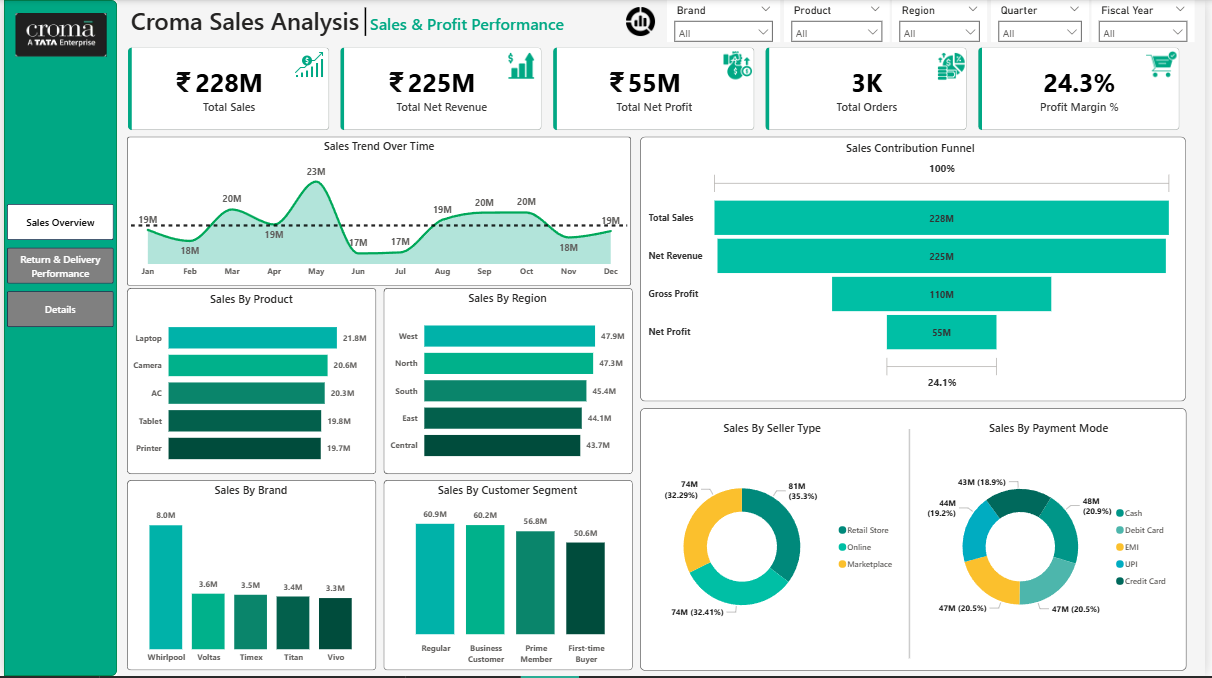

Layout of this report page (visuals, bound fields, positions):
{"tool":"powerbi","page":{"name":"Sales Overview","canvas":[1600,900],"ordinal":0},"visuals":[{"type":"shape","box":[0,0,150.6,900],"z":0},{"type":"textbox","box":[164,0,604.5,56.2],"z":1000},{"type":"shape","box":[467.8,10,27.8,37.8],"z":2000},{"type":"cardVisual","fields":{"Data":["Sheet1.Total Sales","Sheet1.Total Net Revenue","Sheet1.Total Net Profit","Sheet1.Total Orders","Sheet1.Profit Margin %"]},"box":[159.7,58.4,1414.6,120.2],"z":3000},{"type":"shape","box":[164.4,181.1,671.1,198.9],"z":3000},{"type":"image","box":[663.3,64.4,51.1,46.8],"z":4000},{"type":"textbox","box":[223.7,81.9,35.9,69.9],"z":4000},{"type":"areaChart","title":"Sales Trend Over Time","fields":{"Y":["Sheet1.Total Sales"],"Category":["Sheet1.Month_short"]},"box":[164.4,183.3,671.1,194.4],"z":4000},{"type":"image","box":[952.7,60.8,48.3,54],"z":5000},{"type":"textbox","box":[800.8,81.9,34,65.9],"z":5000},{"type":"shape","box":[163.6,384.1,331.8,247.7],"z":5000},{"type":"image","box":[1234.7,63,53.9,48.4],"z":6000},{"type":"textbox","box":[507.3,81.9,32,65.9],"z":6000},{"type":"barChart","title":"Sales By Product","fields":{"Category":["Sheet1.Product"],"Y":["Sheet1.Total Sales"]},"box":[165.9,387.5,327.3,244.3],"z":6000},{"type":"image","box":[376.5,60.8,57.3,52.9],"z":7000},{"type":"shape","box":[504.5,384.1,331.8,247.7],"z":7000},{"type":"image","box":[1512.2,60,57.8,51.1],"z":8000},{"type":"shape","box":[504.5,639.8,331.8,253.4],"z":8000},{"type":"shape","box":[163.6,639.8,331.8,253.4],"z":9000},{"type":"columnChart","title":" Sales By Brand","fields":{"Category":["Sheet1.Brand"],"Y":["Sheet1.Total Sales"]},"box":[165.9,642,326,251],"z":10000},{"type":"clusteredBarChart","title":"Sales By Region","fields":{"Category":["Sheet1.Region"],"Y":["Sheet1.Total Sales"]},"box":[506.8,386.4,326.1,242],"z":11000},{"type":"columnChart","title":"Sales By Customer Segment","fields":{"Category":["Sheet1.Customer Segment"],"Y":["Sheet1.Total Sales"]},"box":[506.8,642,326.1,250],"z":12000},{"type":"shape","box":[847.2,180.9,727,352.8],"z":13000},{"type":"shape","box":[846.7,543.3,727.8,350],"z":14000},{"type":"donutChart","title":"Sales By Seller Type","fields":{"Category":["Sheet1.Seller Type"],"Y":["Sheet1.Total Sales"]},"box":[848.9,560,347.8,316.7],"z":15000},{"type":"donutChart","title":"Sales By Payment Mode","fields":{"Category":["Sheet1.Payment Mode"],"Y":["Sheet1.Total Sales"]},"box":[1220,560,341.1,316.7],"z":16000},{"type":"funnel","title":"Sales Contribution Funnel","fields":{"Category":["Sales Stage.Sales Stage"],"Y":["Sum(Sales Stage.Value)"]},"box":[853.3,186.7,707.8,340],"z":17000},{"type":"shape","box":[1194.4,570.8,22.5,305.6],"z":18000},{"type":"slicer","fields":{"Values":["Sheet1.Fiscal Year"]},"box":[1447.2,0,137.1,56.2],"z":19000},{"type":"slicer","fields":{"Values":["Sheet1.Quarter"]},"box":[1313.5,0,130.3,56.2],"z":20000},{"type":"slicer","fields":{"Values":["Sheet1.Region"]},"box":[1183.1,0,127,56.2],"z":21000},{"type":"slicer","fields":{"Values":["Sheet1.Product"]},"box":[1039.3,0,140.4,56.2],"z":22000},{"type":"slicer","fields":{"Values":["Sheet1.Brand"]},"box":[883.1,0,150.6,56.2],"z":23000},{"type":"image","box":[9,7.9,131.5,76.4],"z":24000},{"type":"image","box":[820,4.4,53.3,48.9],"z":25000},{"type":"pageNavigator","box":[3.3,271.1,142.2,165.6],"z":27000}]}

Visuals, with their boxes on the page's 1600x900 design canvas (x1, y1, x2, y2). These are canvas units, not pixel positions in the 1212x678 screenshot, which may show the page scaled, cropped or inside an application window:
shape: 0 0 151 900
textbox: 164 0 768 56
shape: 468 10 496 48
cardVisual - Sheet1.Total Sales x Sheet1.Total Net Revenue: 160 58 1574 179
shape: 164 181 836 380
image: 663 64 714 111
textbox: 224 82 260 152
"Sales Trend Over Time" areaChart: 164 183 836 378
image: 953 61 1001 115
textbox: 801 82 835 148
shape: 164 384 495 632
image: 1235 63 1289 111
textbox: 507 82 539 148
"Sales By Product" barChart: 166 388 493 632
image: 376 61 434 114
shape: 504 384 836 632
image: 1512 60 1570 111
shape: 504 640 836 893
shape: 164 640 495 893
" Sales By Brand" columnChart: 166 642 492 893
"Sales By Region" clusteredBarChart: 507 386 833 628
"Sales By Customer Segment" columnChart: 507 642 833 892
shape: 847 181 1574 534
shape: 847 543 1574 893
"Sales By Seller Type" donutChart: 849 560 1197 877
"Sales By Payment Mode" donutChart: 1220 560 1561 877
"Sales Contribution Funnel" funnel: 853 187 1561 527
shape: 1194 571 1217 876
slicer - Sheet1.Fiscal Year: 1447 0 1584 56
slicer - Sheet1.Quarter: 1314 0 1444 56
slicer - Sheet1.Region: 1183 0 1310 56
slicer - Sheet1.Product: 1039 0 1180 56
slicer - Sheet1.Brand: 883 0 1034 56
image: 9 8 140 84
image: 820 4 873 53
pageNavigator: 3 271 146 437
